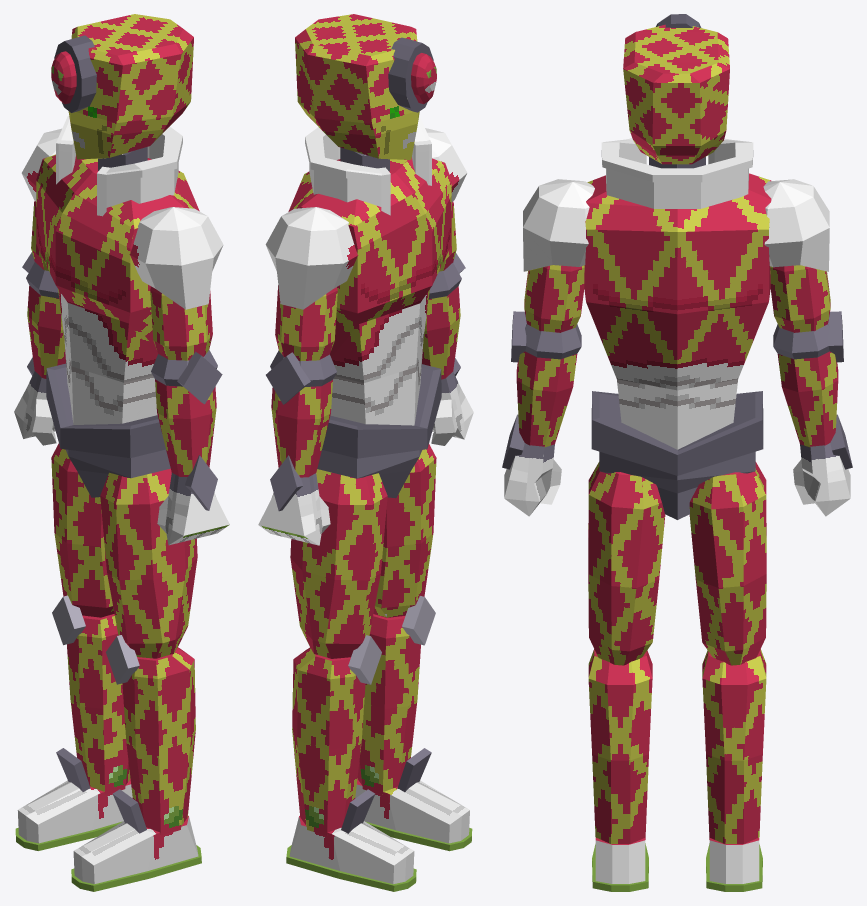
The model's file is CrimsonA.glb.
The picture shows the model from 3 angles, left to right: view 1: azimuth 30°, elevation 25°; view 2: azimuth 150°, elevation 25°; view 3: azimuth 270°, elevation 25°; orthographic projection. The views are drawn at different scales.
Parts seen in each view (by area): view 1: Torso, Cabeça, Perna Cima E, Perna Baixo E, Braço Cima E, Perna Baixo D, Pélvis, Pé E, Perna Cima D, Braço Baixo E, Pé D, Mão E (+3 smaller); view 2: Torso, Cabeça, Perna Cima D, Perna Baixo D, Braço Cima D, Perna Baixo E, Pélvis, Pé D, Perna Cima E, Braço Baixo D, Pé E, Mão D (+3 smaller); view 3: Torso, Cabeça, Perna Cima D, Perna Cima E, Perna Baixo E, Perna Baixo D, Pélvis, Braço Cima E, Braço Cima D, Braço Baixo E, Braço Baixo D, Mão E (+3 smaller).
Boxes of the visible parts, <box> form: Torso: <box>36,115,199,424</box>; Cabeça: <box>51,14,193,159</box>; Perna Cima E: <box>100,468,197,658</box>; Perna Baixo E: <box>106,635,195,835</box>; Braço Cima E: <box>129,207,223,360</box>; Perna Baixo D: <box>52,595,130,794</box>; Pélvis: <box>46,363,170,497</box>; Pé E: <box>71,789,201,891</box>; Perna Cima D: <box>51,443,114,617</box>; Braço Baixo E: <box>151,350,222,476</box>; Pé D: <box>15,748,132,850</box>; Mão E: <box>157,455,229,545</box>; Torso: <box>288,116,451,425</box>; Cabeça: <box>295,14,436,159</box>; Perna Cima D: <box>290,469,387,658</box>; Perna Baixo D: <box>292,635,381,835</box>; Braço Cima D: <box>265,207,358,361</box>; Perna Baixo E: <box>357,596,435,794</box>; Pélvis: <box>317,364,441,498</box>; Pé D: <box>286,789,416,891</box>; Perna Cima E: <box>373,444,436,617</box>; Braço Baixo D: <box>266,350,336,477</box>; Pé E: <box>355,748,472,851</box>; Mão D: <box>258,455,330,545</box>; Torso: <box>584,138,771,449</box>; Cabeça: <box>623,14,729,164</box>; Perna Cima D: <box>689,462,766,665</box>; Perna Cima E: <box>588,462,665,665</box>; Perna Baixo E: <box>588,649,652,843</box>; Perna Baixo D: <box>702,649,766,843</box>; Pélvis: <box>591,391,763,519</box>; Braço Cima E: <box>523,179,594,332</box>; Braço Cima D: <box>763,179,830,332</box>; Braço Baixo E: <box>511,311,581,447</box>; Braço Baixo D: <box>773,311,843,447</box>; Mão E: <box>502,414,561,516</box>.
Bounding box in the file's own units: 1.74 × 9.97 × 3.8.
5 materials, 5 textured.
